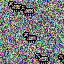sheep: (8, 0, 22, 13), (22, 31, 37, 43), (20, 5, 34, 16), (35, 53, 49, 64), (58, 54, 64, 64)
